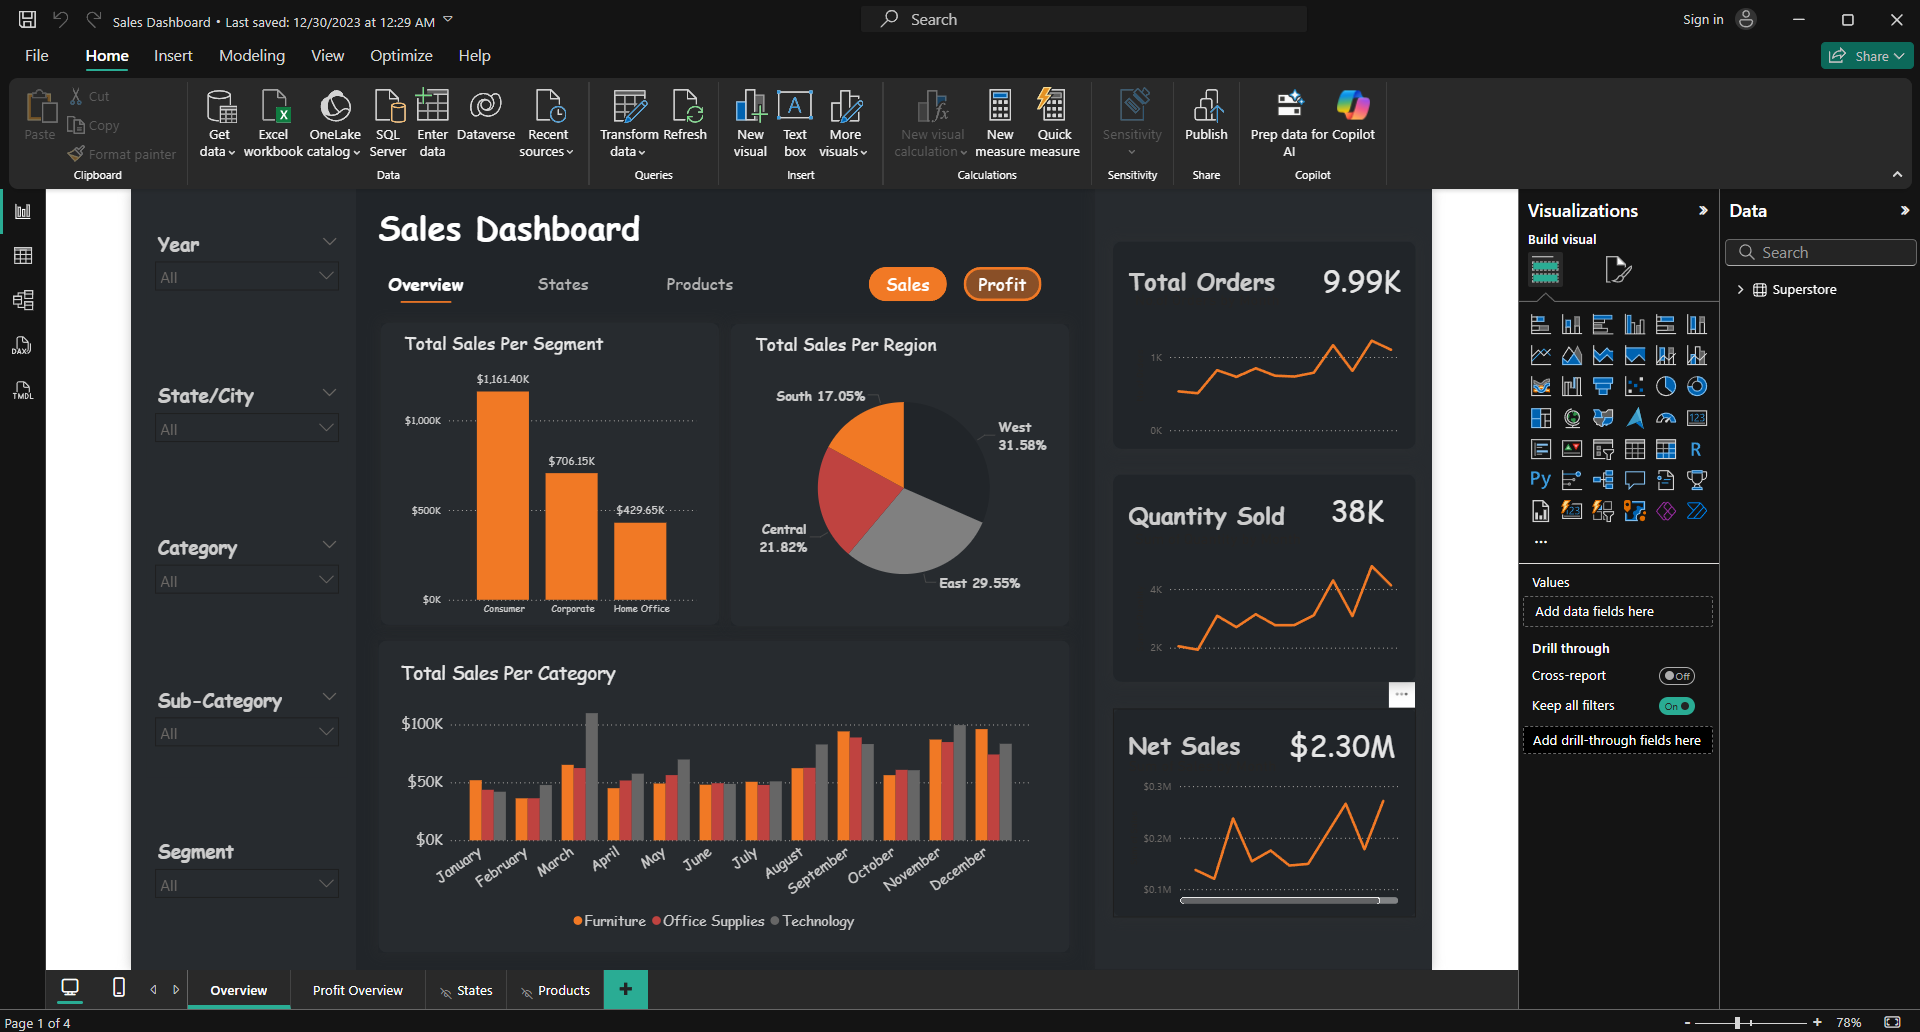

The dashboard page shown, as its layout file describes it:
{"tool":"powerbi","page":{"name":"Overview","canvas":[1500,900],"ordinal":0},"visuals":[{"type":"shape","box":[0,0,259.7,900.6],"z":0},{"type":"shape","box":[1110.9,0,388.9,899.4],"z":1000},{"type":"shape","box":[1131.4,599.2,350,240],"z":2000},{"type":"shape","box":[1132.4,329.5,349,239.2],"z":3000},{"type":"shape","box":[1132.4,59.9,349,239.2],"z":4000},{"type":"shape","box":[287.3,154.5,390.1,348.3],"z":5000},{"type":"textbox","box":[1144.9,81.2,202,60.2],"z":6000},{"type":"card","fields":{"Values":["CountNonNull(Superstore.Order ID)"]},"box":[1348.6,70.6,138.2,69.1],"z":7000},{"type":"card","fields":{"Values":["Sum(Superstore.Quantity)"]},"box":[1343.3,336.3,138.2,69.1],"z":8000},{"type":"textbox","box":[1144.9,350.5,198.4,60.2],"z":9000},{"type":"textbox","box":[1144.9,616.2,193.1,60.2],"z":10000},{"type":"card","fields":{"Values":["Sum(Superstore.Sales)"]},"box":[1320.3,607.4,150.6,69.1],"z":11000},{"type":"lineChart","fields":{"Y":["CountNonNull(Superstore.Order ID)"],"Category":["Superstore.Order Date.Variation.Date Hierarchy.Month"]},"box":[1152,118.4,313.6,173.6],"z":12000},{"type":"lineChart","fields":{"Category":["Superstore.Order Date.Variation.Date Hierarchy.Month"],"Y":["Sum(Superstore.Quantity)"]},"box":[1152,394.8,313.6,173.6],"z":13000},{"type":"lineChart","fields":{"Category":["Superstore.Order Date.Variation.Date Hierarchy.Month"],"Y":["Sum(Superstore.Sales)"]},"box":[1144.9,655.2,320.7,173.6],"z":14000},{"type":"shape","box":[285,520.6,796.8,359.7],"z":15000},{"type":"clusteredColumnChart","title":"Total Sales Per Segment","fields":{"Y":["Sum(Superstore.Sales)"],"Category":["Superstore.Segment"]},"box":[310.1,163.4,347.1,339.5],"z":16000},{"type":"clusteredColumnChart","title":"Total Sales Per Category","fields":{"Y":["Sum(Superstore.Sales)"],"Series":["Superstore.Category"],"Category":["Superstore.Order Date.Variation.Date Hierarchy.Month"]},"box":[305.3,542.2,736,321.7],"z":17000},{"type":"actionButton","title":"Sales","box":[850,90.2,89.9,39.3],"z":18000},{"type":"actionButton","title":"Sales","box":[960,90.2,89.9,39.3],"z":19000},{"type":"slicer","title":"City ","fields":{"Values":["Superstore.State","Superstore.City"]},"box":[17.6,217.3,231.8,110.2],"z":20000},{"type":"slicer","title":"City ","fields":{"Values":["Superstore.Category"]},"box":[17.6,392.3,231.8,110.2],"z":21000},{"type":"slicer","title":"City ","fields":{"Values":["Superstore.Segment"]},"box":[17.5,742.3,232,110],"z":22000},{"type":"slicer","title":"City ","fields":{"Values":["Superstore.Order Date.Variation.Date Hierarchy.Year"]},"box":[17.5,42.5,232,110],"z":23000},{"type":"slicer","title":"City ","fields":{"Values":["Superstore.Sub-Category"]},"box":[17.6,567.3,231.8,110.2],"z":24000},{"type":"textbox","box":[279.9,11.4,347.1,69.7],"z":25000},{"type":"pageNavigator","box":[266,84.9,464.9,48.1],"z":26000},{"type":"shape","box":[691.5,155.4,390.1,348.3],"z":27000},{"type":"pieChart","title":"Total Sales Per Region","fields":{"Y":["Sum(Superstore.Sales)"],"Category":["Superstore.Region"]},"box":[714.4,164.7,352.1,328.1],"z":28000},{"type":"shape","box":[310.3,114,58.3,31.7],"z":29000}]}

Visuals, with their boxes on the page's 1500x900 design canvas (x1, y1, x2, y2). These are canvas units, not pixel positions in the 1920x1032 screenshot, which may show the page scaled, cropped or inside an application window:
shape: {"left": 0, "top": 0, "right": 260, "bottom": 901}
shape: {"left": 1111, "top": 0, "right": 1500, "bottom": 899}
shape: {"left": 1131, "top": 599, "right": 1481, "bottom": 839}
shape: {"left": 1132, "top": 330, "right": 1481, "bottom": 569}
shape: {"left": 1132, "top": 60, "right": 1481, "bottom": 299}
shape: {"left": 287, "top": 154, "right": 677, "bottom": 503}
textbox: {"left": 1145, "top": 81, "right": 1347, "bottom": 141}
card - CountNonNull(Superstore.Order ID): {"left": 1349, "top": 71, "right": 1487, "bottom": 140}
card - Sum(Superstore.Quantity): {"left": 1343, "top": 336, "right": 1482, "bottom": 405}
textbox: {"left": 1145, "top": 350, "right": 1343, "bottom": 411}
textbox: {"left": 1145, "top": 616, "right": 1338, "bottom": 676}
card - Sum(Superstore.Sales): {"left": 1320, "top": 607, "right": 1471, "bottom": 676}
lineChart - CountNonNull(Superstore.Order ID) x Superstore.Order Date.Variation.Date Hierarchy.Month: {"left": 1152, "top": 118, "right": 1466, "bottom": 292}
lineChart - Superstore.Order Date.Variation.Date Hierarchy.Month x Sum(Superstore.Quantity): {"left": 1152, "top": 395, "right": 1466, "bottom": 568}
lineChart - Superstore.Order Date.Variation.Date Hierarchy.Month x Sum(Superstore.Sales): {"left": 1145, "top": 655, "right": 1466, "bottom": 829}
shape: {"left": 285, "top": 521, "right": 1082, "bottom": 880}
"Total Sales Per Segment" clusteredColumnChart: {"left": 310, "top": 163, "right": 657, "bottom": 503}
"Total Sales Per Category" clusteredColumnChart: {"left": 305, "top": 542, "right": 1041, "bottom": 864}
"Sales" actionButton: {"left": 850, "top": 90, "right": 940, "bottom": 130}
"Sales" actionButton: {"left": 960, "top": 90, "right": 1050, "bottom": 130}
"City " slicer: {"left": 18, "top": 217, "right": 249, "bottom": 328}
"City " slicer: {"left": 18, "top": 392, "right": 249, "bottom": 502}
"City " slicer: {"left": 18, "top": 742, "right": 250, "bottom": 852}
"City " slicer: {"left": 18, "top": 42, "right": 250, "bottom": 152}
"City " slicer: {"left": 18, "top": 567, "right": 249, "bottom": 678}
textbox: {"left": 280, "top": 11, "right": 627, "bottom": 81}
pageNavigator: {"left": 266, "top": 85, "right": 731, "bottom": 133}
shape: {"left": 692, "top": 155, "right": 1082, "bottom": 504}
"Total Sales Per Region" pieChart: {"left": 714, "top": 165, "right": 1066, "bottom": 493}
shape: {"left": 310, "top": 114, "right": 369, "bottom": 146}
